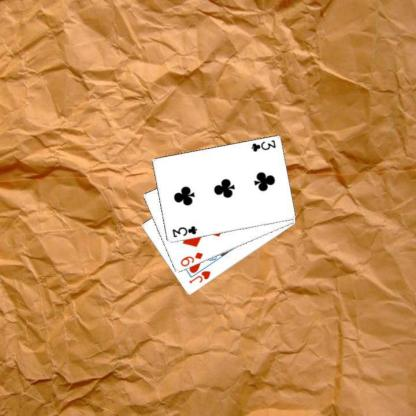3C: (248, 138, 277, 153), (169, 224, 198, 238)
9D: (177, 250, 204, 268)
JH: (186, 268, 212, 285)
